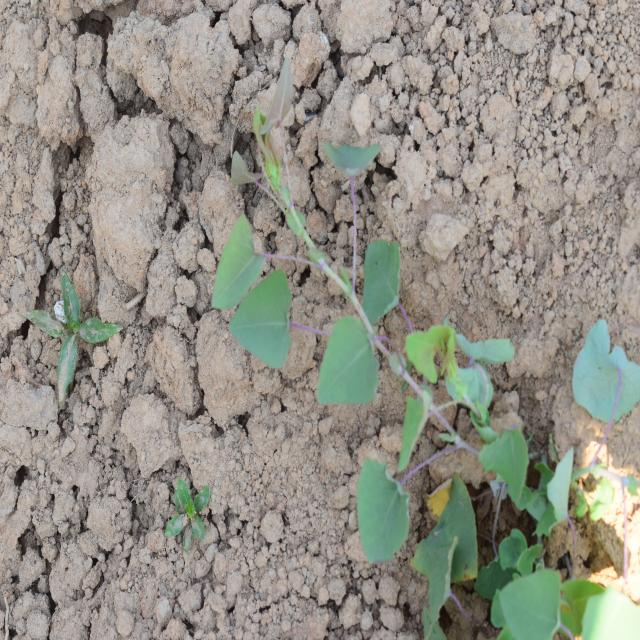Asiatic_Smartweed: (201, 104, 411, 411), (352, 419, 598, 628)
